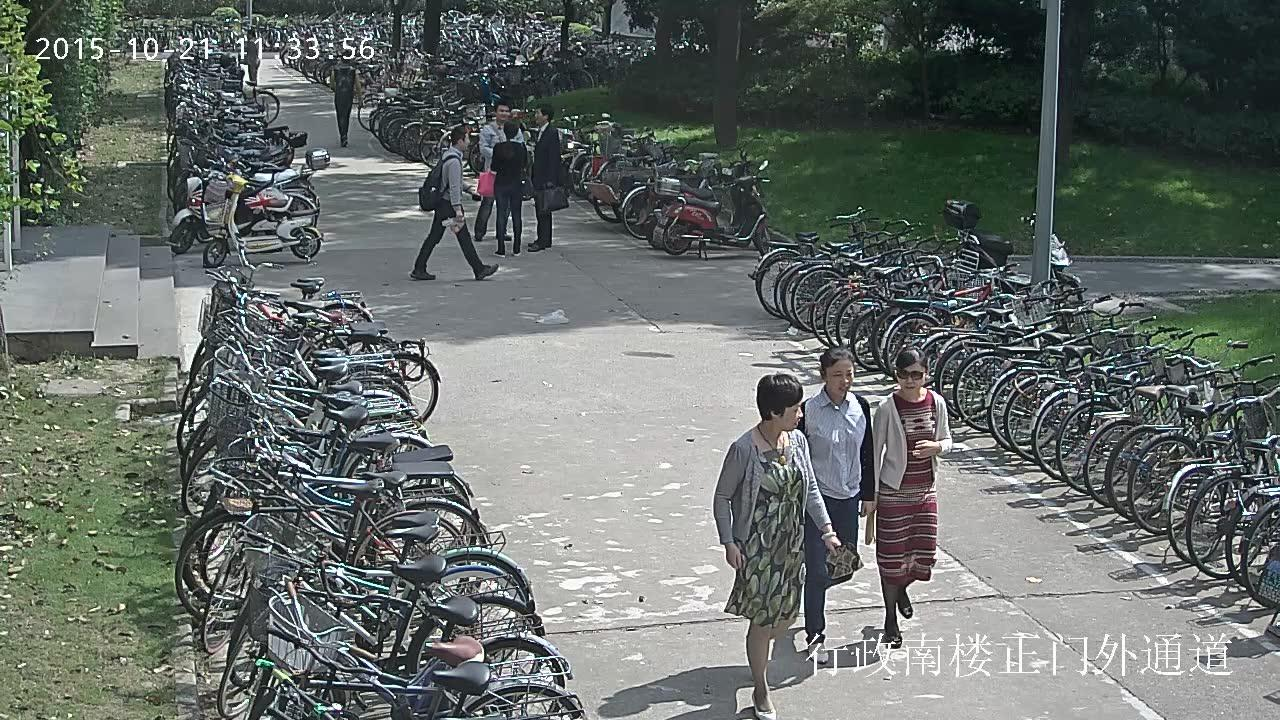person: (713, 372, 863, 720), (793, 346, 875, 663), (871, 345, 953, 650), (404, 126, 500, 281), (476, 119, 533, 256), (468, 100, 523, 241), (525, 103, 573, 252), (328, 56, 359, 148), (244, 29, 262, 84)
